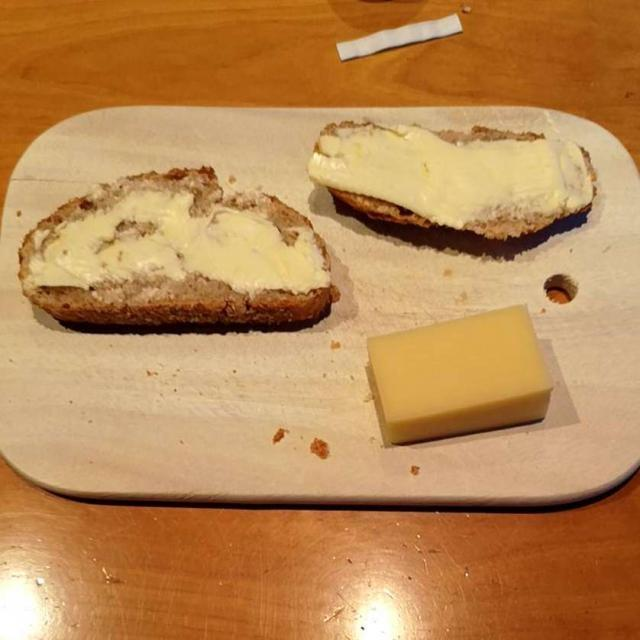bread: (29, 114, 600, 336)
butter: (35, 130, 579, 302)
cheese: (368, 310, 549, 446)
